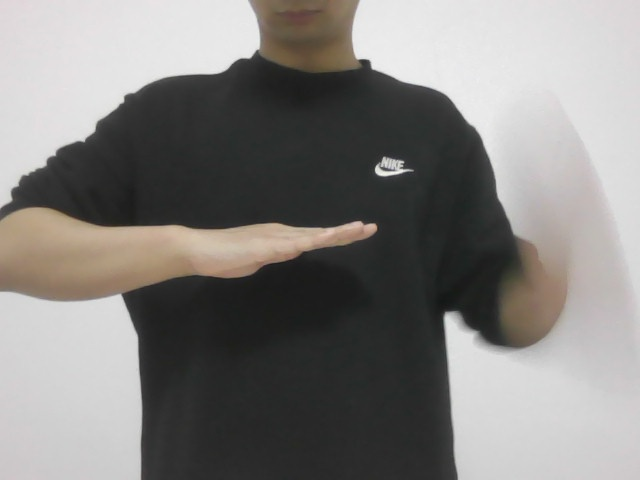safe: (167, 202, 381, 284)
